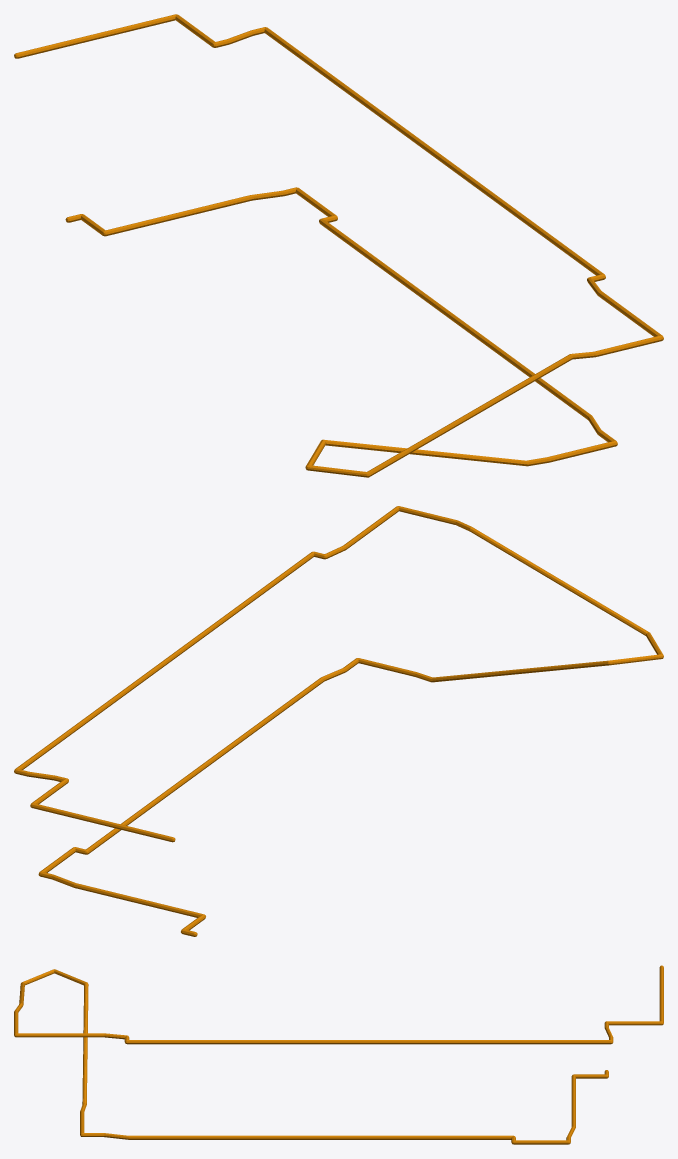
3 renders of one model, top to bottom at view 1: azimuth 30°, elevation 25°; view 2: azimuth 150°, elevation 25°; view 3: azimuth 270°, elevation 25°, orthographic. The views are drawn at different scales.
Bounding box in the file's own units: 1325 × 520 × 2954.
